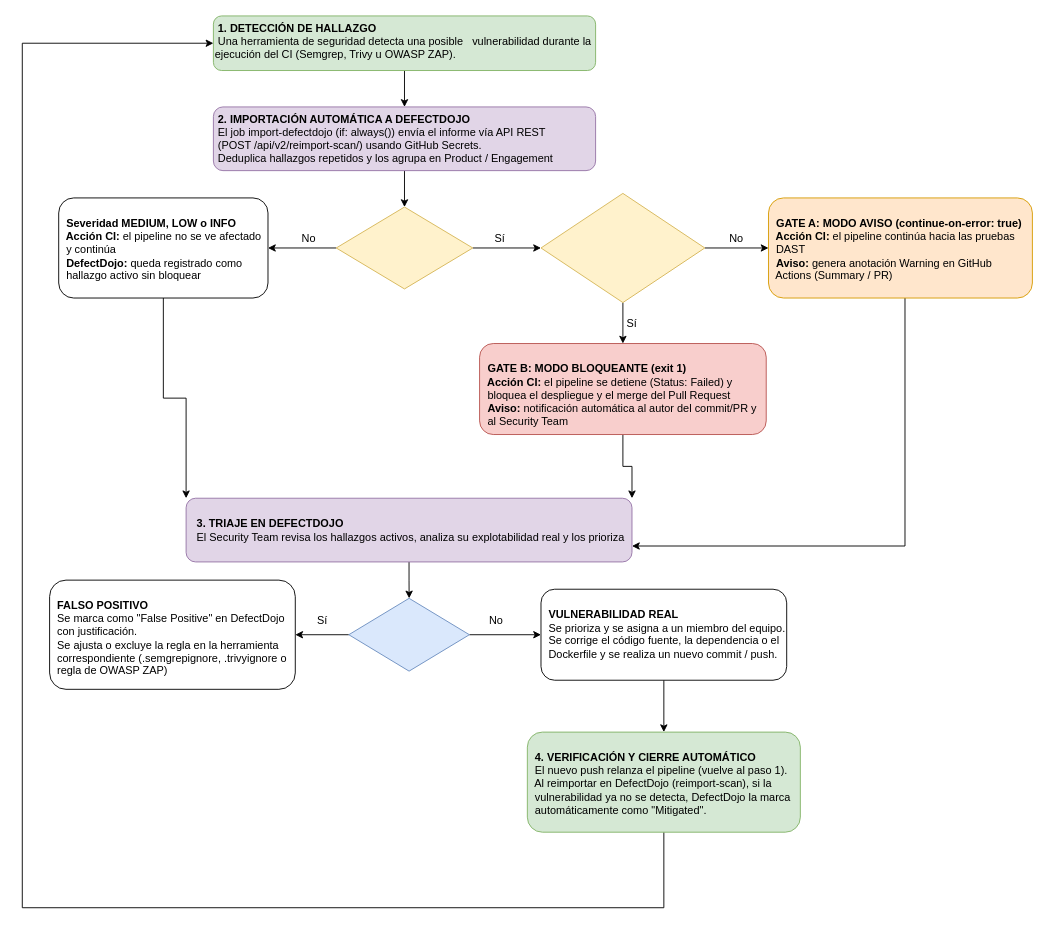
The diagram is 1048 pixels wide and 931 high, and some of its shapes have lost their labels. The shapes that lost their labels are listed below. From the top down, each one's centre as x and y in pixels, then its label:
At pixel 404 247: "¿Supera el umbral ≥ 1 CRITICAL o HIGH ?".
At pixel 622 247: "¿La etapa tiene un Quality Gate en modo bloqueante?".
At pixel 408 634: "¿Es un falso positivo?".
